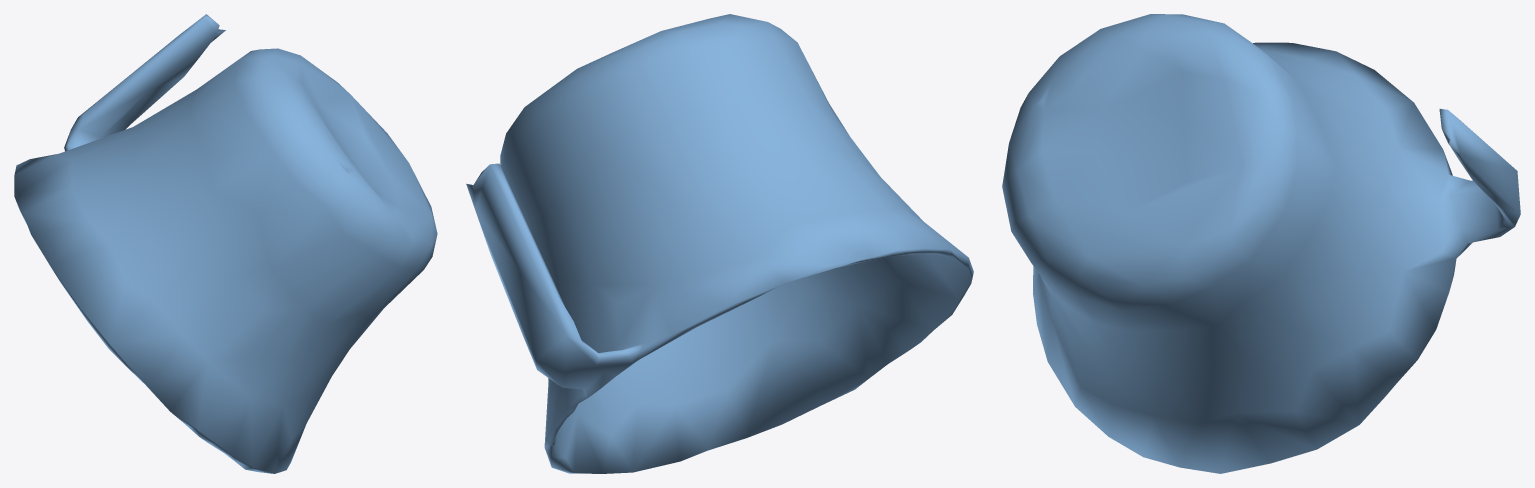
Rendered from mug2_4.dae.
3 views of the same model, side by side, from view 1: azimuth 30°, elevation 25°; view 2: azimuth 150°, elevation 25°; view 3: azimuth 270°, elevation 25° (orthographic). The views are drawn at different scales.
Visible parts, largest first — view 1: GreenCup_800_tex_019; view 2: GreenCup_800_tex_019; view 3: GreenCup_800_tex_019.
Part boxes in pixels (<box>): GreenCup_800_tex_019: <box>14,14,437,473</box>; GreenCup_800_tex_019: <box>466,14,973,473</box>; GreenCup_800_tex_019: <box>1002,14,1520,473</box>.
Bounding box in the file's own units: 0.2293 × 0.2487 × 0.2284.
